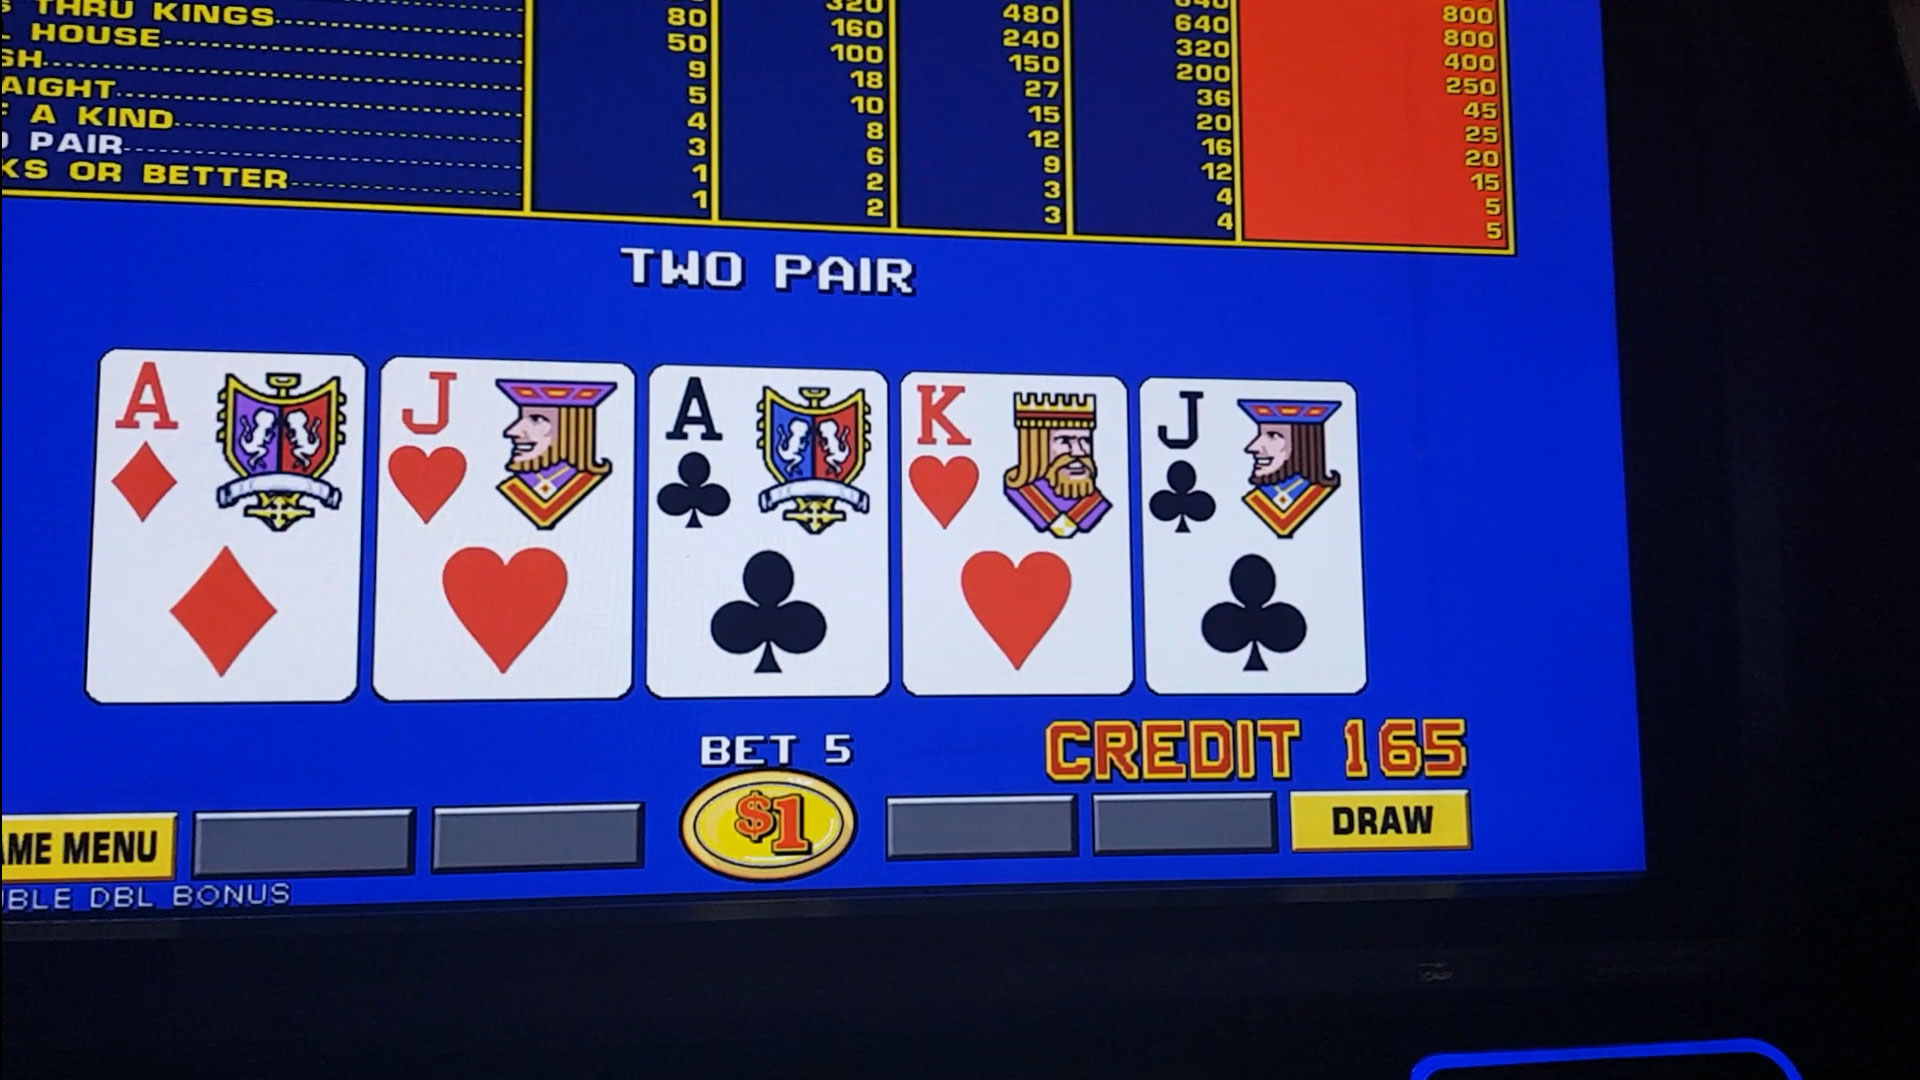CA: (655, 372, 887, 542)
CJ: (1145, 380, 1353, 542)
DA: (104, 357, 360, 531)
HJ: (386, 368, 628, 535)
HK: (905, 378, 1125, 534)
